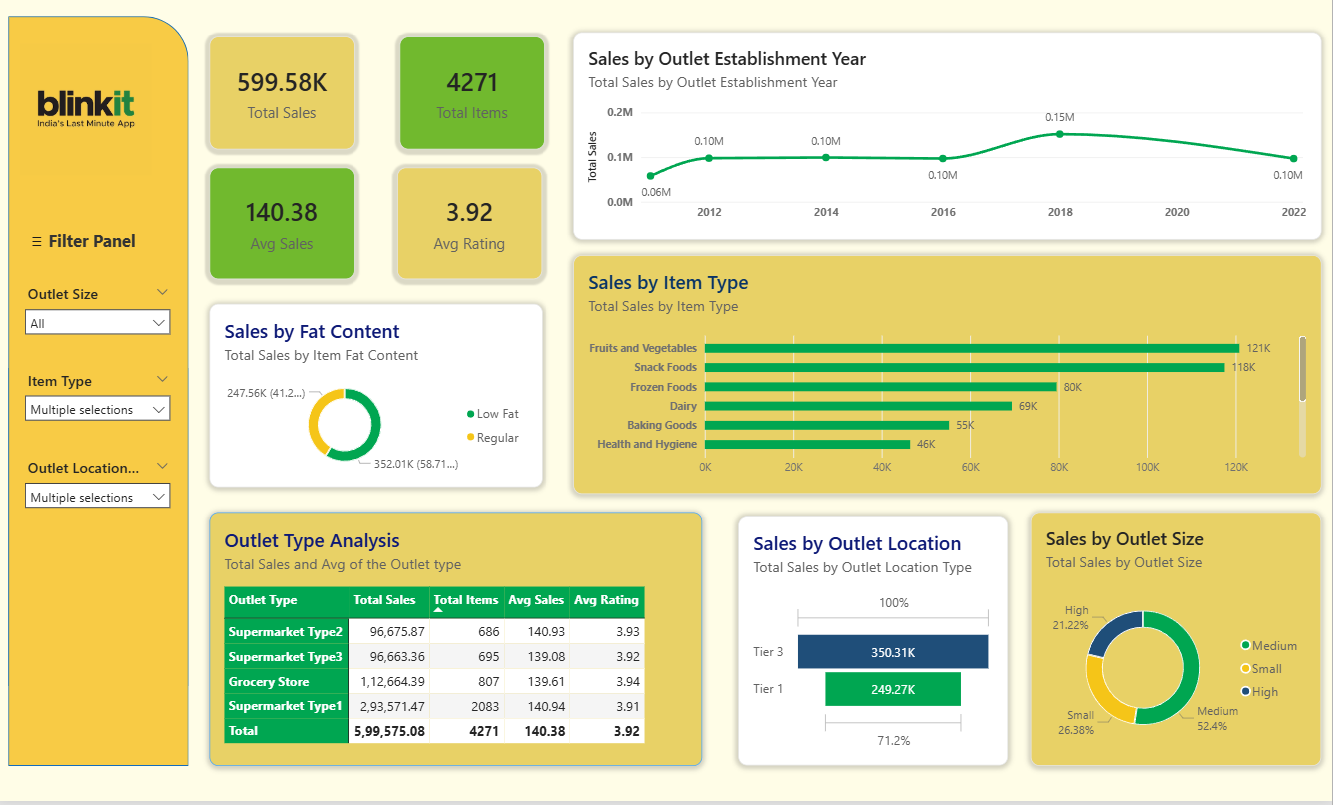

The dashboard page shown, as its layout file describes it:
{"tool":"powerbi","page":{"name":"Page 1","canvas":[1500,900],"ordinal":0},"visuals":[{"type":"card","fields":{"Values":["Key Measures.Total Sales"]},"box":[239,41.2,163.2,126.9],"z":0},{"type":"card","fields":{"Values":["Key Measures.Avg Sales"]},"box":[239,187.9,163.2,125.3],"z":1000},{"type":"card","fields":{"Values":["Key Measures.Avg Rating"]},"box":[450,187.9,163.2,125.3],"z":2000},{"type":"card","fields":{"Values":["Key Measures.Total Items"]},"box":[451.6,41.2,163.2,126.9],"z":3000},{"type":"donutChart","title":" Sales by Fat Content","fields":{"Category":["BlinkIT-Grocery-Data.Item Fat Content"],"Y":["Key Measures.Total Sales"]},"box":[239,341.2,374.2,206],"z":4000},{"type":"clusteredBarChart","title":"Sales by Item Type","fields":{"Category":["BlinkIT-Grocery-Data.Item Type"],"Y":["Key Measures.Total Sales"]},"box":[647.8,286.8,840.7,268.7],"z":5000},{"type":"donutChart","title":"Sales by Outlet Size","fields":{"Category":["BlinkIT-Grocery-Data.Outlet Size"],"Y":["Key Measures.Total Sales"]},"box":[1162.1,575.3,326.4,285.2],"z":6000},{"type":"lineChart","title":"Sales by Outlet Establishment Year","fields":{"Category":["BlinkIT-Grocery-Data.Outlet Establishment Year"],"Y":["Key Measures.Total Sales"]},"box":[647.8,36.3,840.7,232.4],"z":7000},{"type":"pivotTable","title":"Outlet Type Analysis","fields":{"Rows":["BlinkIT-Grocery-Data.Outlet Type"],"Values":["Key Measures.Total Sales","Key Measures.Total Items","Key Measures.Avg Sales","Key Measures.Avg Rating"]},"box":[239,575.3,553.8,285.2],"z":8000},{"type":"funnel","title":" Sales by Outlet Location","fields":{"Category":["BlinkIT-Grocery-Data.Outlet Location Type"],"Y":["Key Measures.Total Sales"]},"box":[832.4,580.2,303.3,280.2],"z":12000},{"type":"shape","box":[13.2,18.1,202.7,842.3],"z":12750},{"type":"slicer","fields":{"Values":["BlinkIT-Grocery-Data.Outlet Location Type"]},"box":[26.4,514.3,173.1,65.9],"z":12812},{"type":"slicer","fields":{"Values":["BlinkIT-Grocery-Data.Outlet Size"]},"box":[26.4,318.1,173.1,64.3],"z":12875},{"type":"slicer","fields":{"Values":["BlinkIT-Grocery-Data.Item Type"]},"box":[26.4,415.4,173.1,67.6],"z":13000},{"type":"textbox","box":[25.9,251.2,160.1,35.7],"z":15500},{"type":"image","box":[25.6,42,148.6,161.9],"z":16501}]}

Visuals, with their boxes in screenshot pixels (x1, y1, x2, y2), scaled from the page's 1500x900 canvas onto the 1338x805 screenshot:
card - Key Measures.Total Sales: pyautogui.locateOnScreen(213, 37, 359, 150)
card - Key Measures.Avg Sales: pyautogui.locateOnScreen(213, 168, 359, 280)
card - Key Measures.Avg Rating: pyautogui.locateOnScreen(401, 168, 547, 280)
card - Key Measures.Total Items: pyautogui.locateOnScreen(403, 37, 548, 150)
" Sales by Fat Content" donutChart: pyautogui.locateOnScreen(213, 305, 547, 489)
"Sales by Item Type" clusteredBarChart: pyautogui.locateOnScreen(578, 257, 1328, 497)
"Sales by Outlet Size" donutChart: pyautogui.locateOnScreen(1037, 515, 1328, 770)
"Sales by Outlet Establishment Year" lineChart: pyautogui.locateOnScreen(578, 32, 1328, 240)
"Outlet Type Analysis" pivotTable: pyautogui.locateOnScreen(213, 515, 707, 770)
" Sales by Outlet Location" funnel: pyautogui.locateOnScreen(743, 519, 1013, 770)
shape: pyautogui.locateOnScreen(12, 16, 193, 770)
slicer - BlinkIT-Grocery-Data.Outlet Location Type: pyautogui.locateOnScreen(24, 460, 178, 519)
slicer - BlinkIT-Grocery-Data.Outlet Size: pyautogui.locateOnScreen(24, 285, 178, 342)
slicer - BlinkIT-Grocery-Data.Item Type: pyautogui.locateOnScreen(24, 372, 178, 432)
textbox: pyautogui.locateOnScreen(23, 225, 166, 257)
image: pyautogui.locateOnScreen(23, 38, 155, 182)
